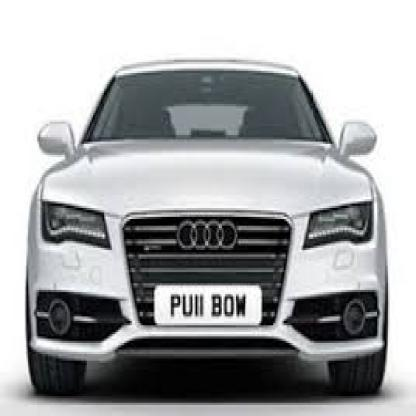car: (24, 56, 387, 401)
